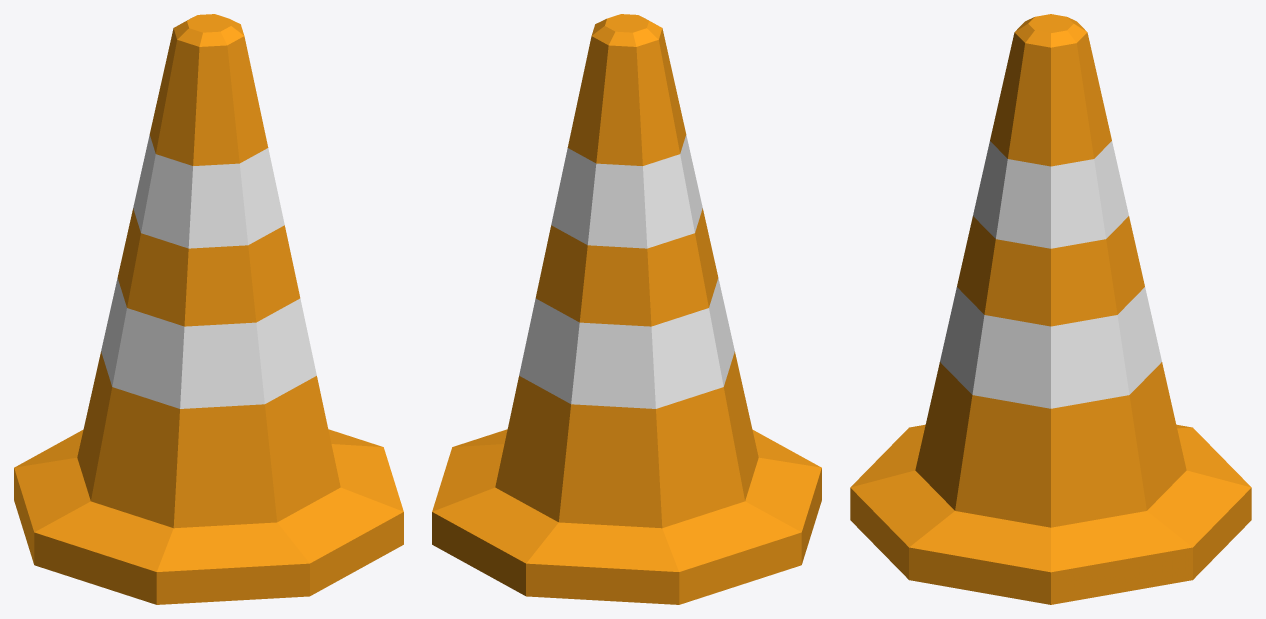
Rendered from traffic_12.fbx.
3 renders of one model, left to right at view 1: azimuth 30°, elevation 25°; view 2: azimuth 150°, elevation 25°; view 3: azimuth 270°, elevation 25°, orthographic.
Visible parts, largest first — view 1: Cylinder.030; view 2: Cylinder.030; view 3: Cylinder.030.
Boxes of the visible parts, x1,y1,x2,y2 form: Cylinder.030: [14, 14, 403, 604]; Cylinder.030: [432, 14, 821, 604]; Cylinder.030: [850, 14, 1251, 604].
Size of the model in its own units: 45.2 by 61.7 by 45.2.
